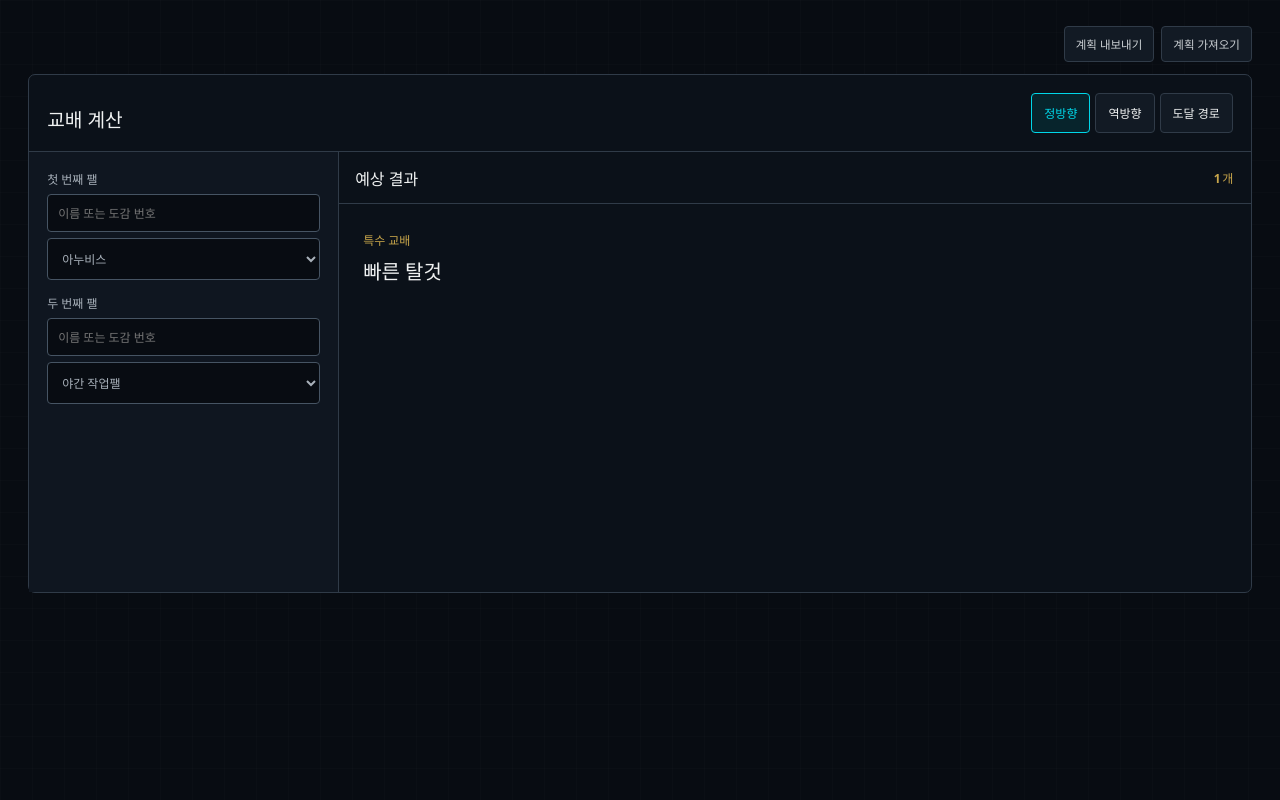
ToolsBoard › exposes exact forward, reverse and path breeding modes
Select "아누비스" in the dropdown named "첫 번째 부모 팰" at (184,259), box [47,238,320,280]
Select "야간 작업팰" in the dropdown named "두 번째 부모 팰" at (184,383), box [47,362,320,404]
Expected: the heading "빠른 탈것" is shown, [363,256,453,285]
Expected: the text "특수 교배" is shown, [363,232,410,249]
Click the button "역방향" at (1125,113), box [1095,93,1154,133]
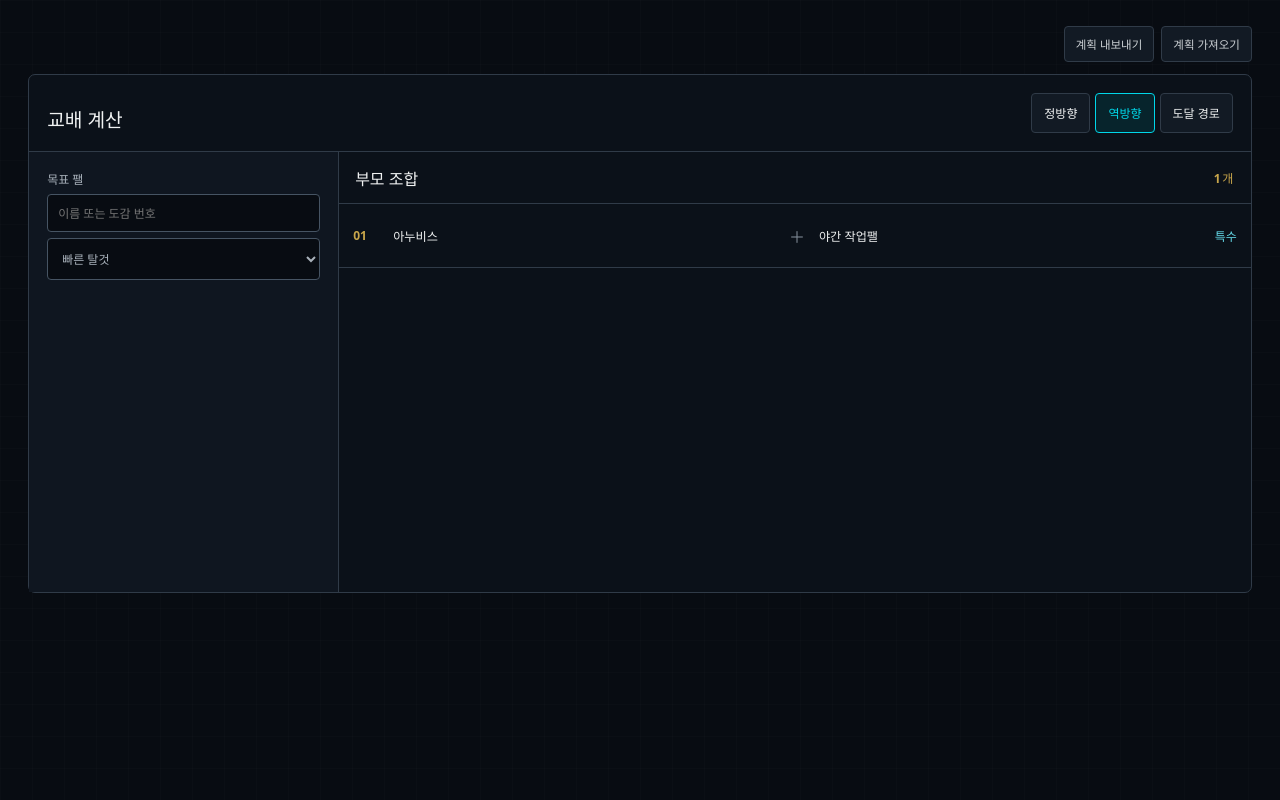
Select "빠른 탈것" in the dropdown named "목표 팰" at (184,259), box [47,238,320,280]
Click the button "도달 경로" at (1196,113), box [1160,93,1233,133]
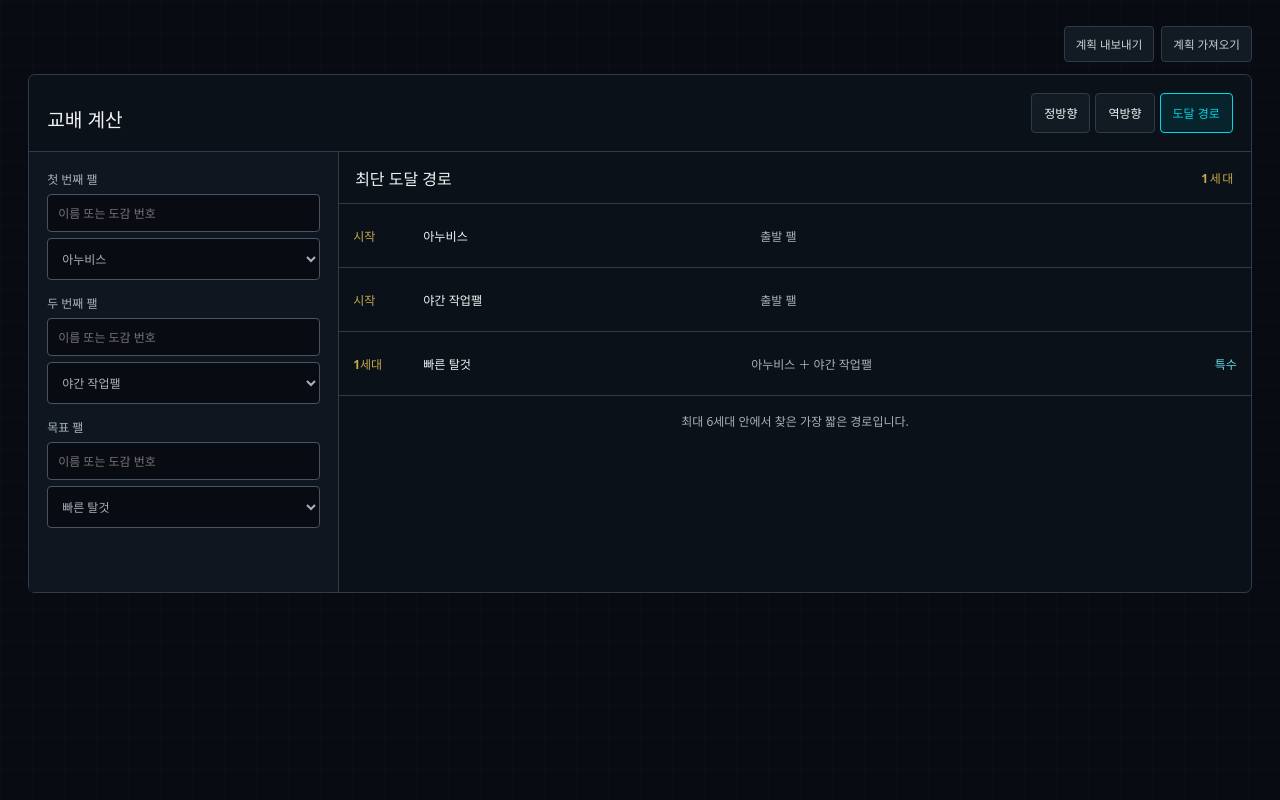
Expected: the text "1세대" is shown 2 times, [1201,168,1235,186]; [353,356,382,372]
Expected: the text "최대 6세대 안에서 찾은 가장 짧은 경로입니다." is shown, [681,413,909,430]
